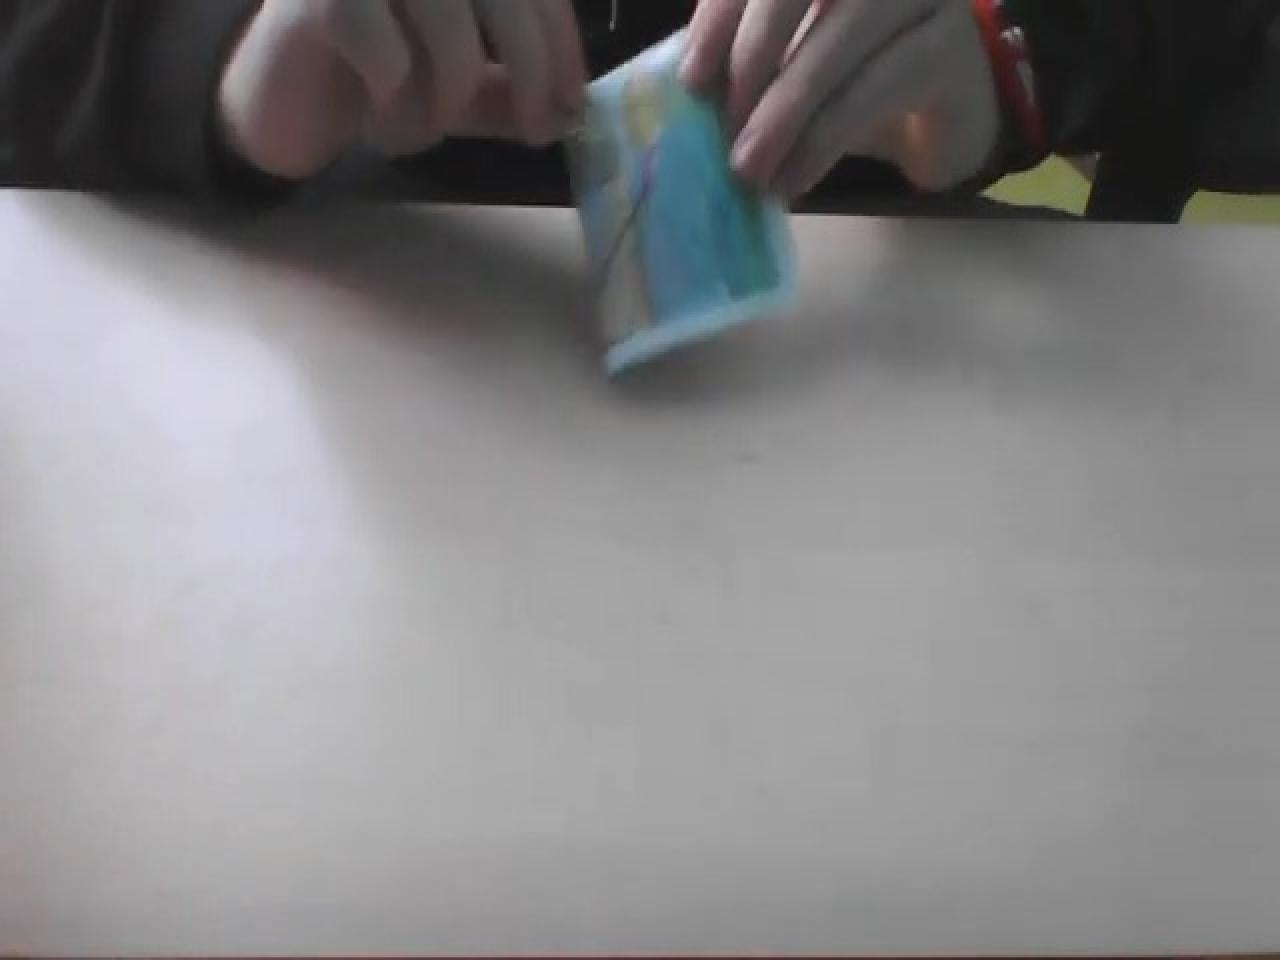100leva: (582, 40, 796, 376)
